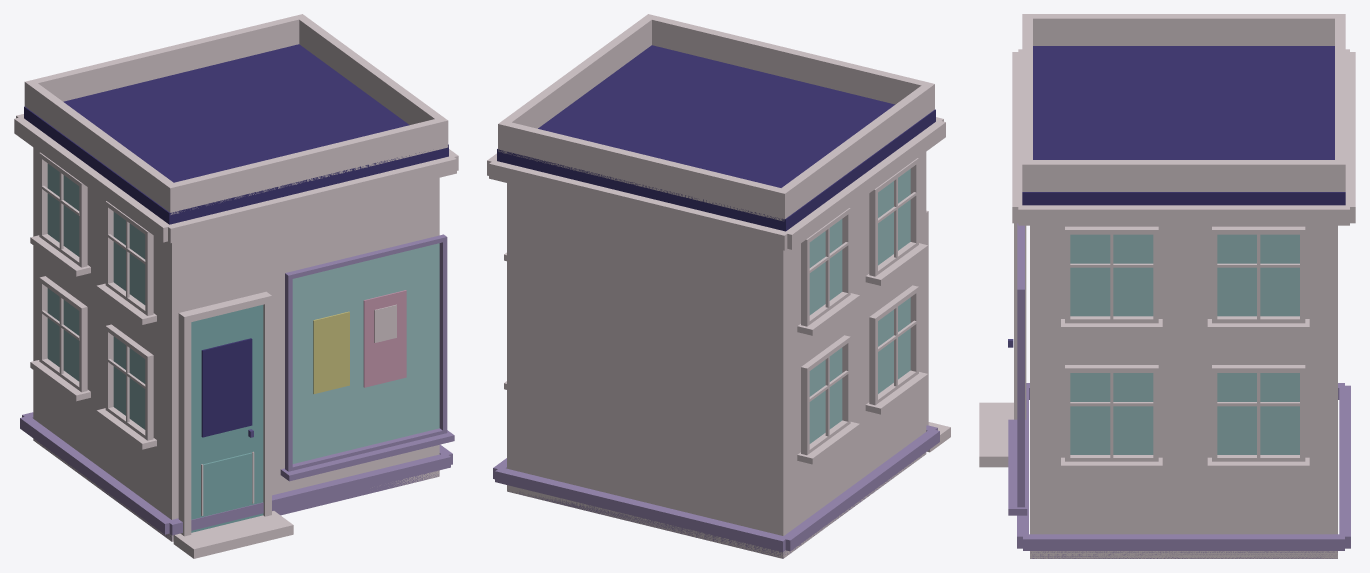
The model's file is gallery-flat.glb.
3 renders of one model, left to right at view 1: azimuth 30°, elevation 25°; view 2: azimuth 150°, elevation 25°; view 3: azimuth 270°, elevation 25°, orthographic. The views are drawn at different scales.
Visible parts, largest first — view 1: scenery; view 2: scenery; view 3: scenery.
Part boxes in pixels (x1,y1,x2,y2): scenery: [14, 14, 458, 558]; scenery: [487, 14, 950, 558]; scenery: [979, 14, 1355, 558].
Bounding box in the file's own units: 3.24 × 3.7 × 3.18.
